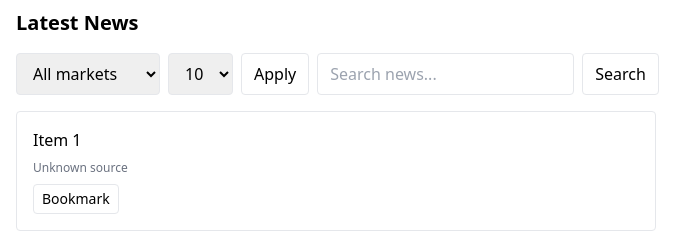
Test case: Feed filters › applies market and limit filters
Expected: the text "Item 1" is shown, x1=33 y1=129 x2=82 y2=151
Select "stocks" in the dropdown with test id "market" at (88, 74), box x1=16 y1=53 x2=160 y2=95
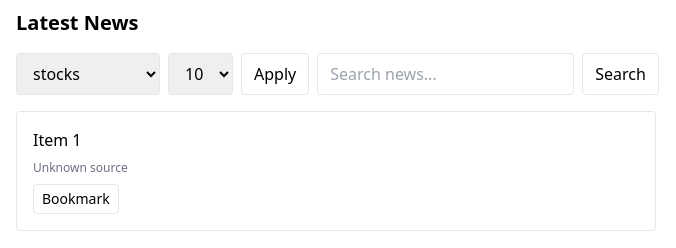
Select "20" in the dropdown with test id "limit" at (200, 74), box x1=168 y1=53 x2=233 y2=95
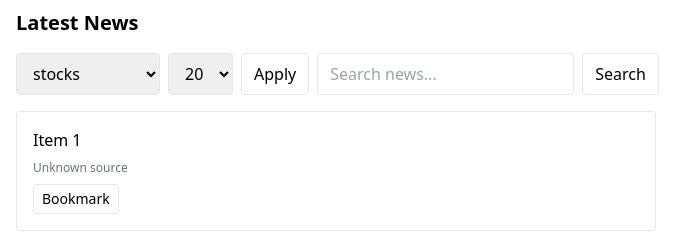
Click the button with test id "apply-filters".
click(275, 74)  # box x1=241 y1=53 x2=309 y2=95
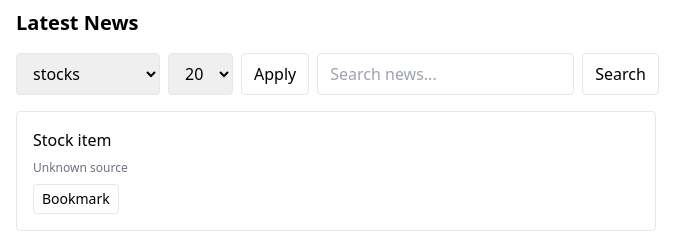
Expected: the text "Stock item" is shown, x1=33 y1=129 x2=112 y2=151
